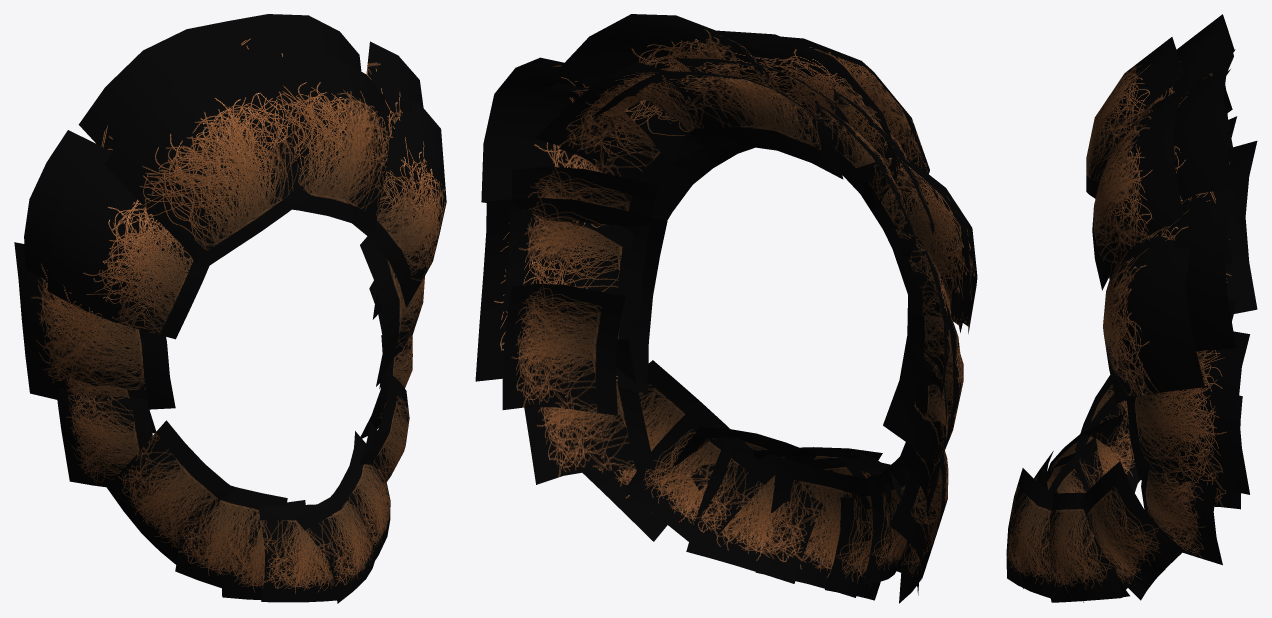
The model's file is monkey_hair.fbx.
3 views of the same model, side by side, from view 1: azimuth 30°, elevation 25°; view 2: azimuth 150°, elevation 25°; view 3: azimuth 270°, elevation 25° (orthographic). The views are drawn at different scales.
Parts seen in each view (by area): view 1: hair; view 2: hair; view 3: hair.
Boxes of the visible parts, left/top/right/bottom form: hair: left=14, top=14, right=446, bottom=603; hair: left=475, top=14, right=977, bottom=603; hair: left=1006, top=14, right=1257, bottom=602.
Bounding box in the file's own units: 240 × 294 × 125.
